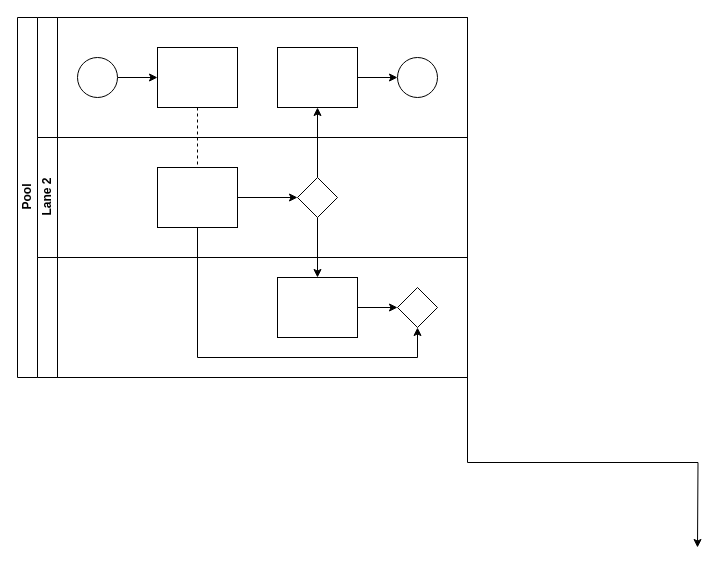
Image size: 718x563. Some labels were removed from this diagram. The shapes that lost their labels are listed below. From the top down, each one's box as (x1, y1, x2, y2) in pixels, then its label:
(36, 16, 468, 138): Lane 1
(36, 256, 468, 378): Lane 3
